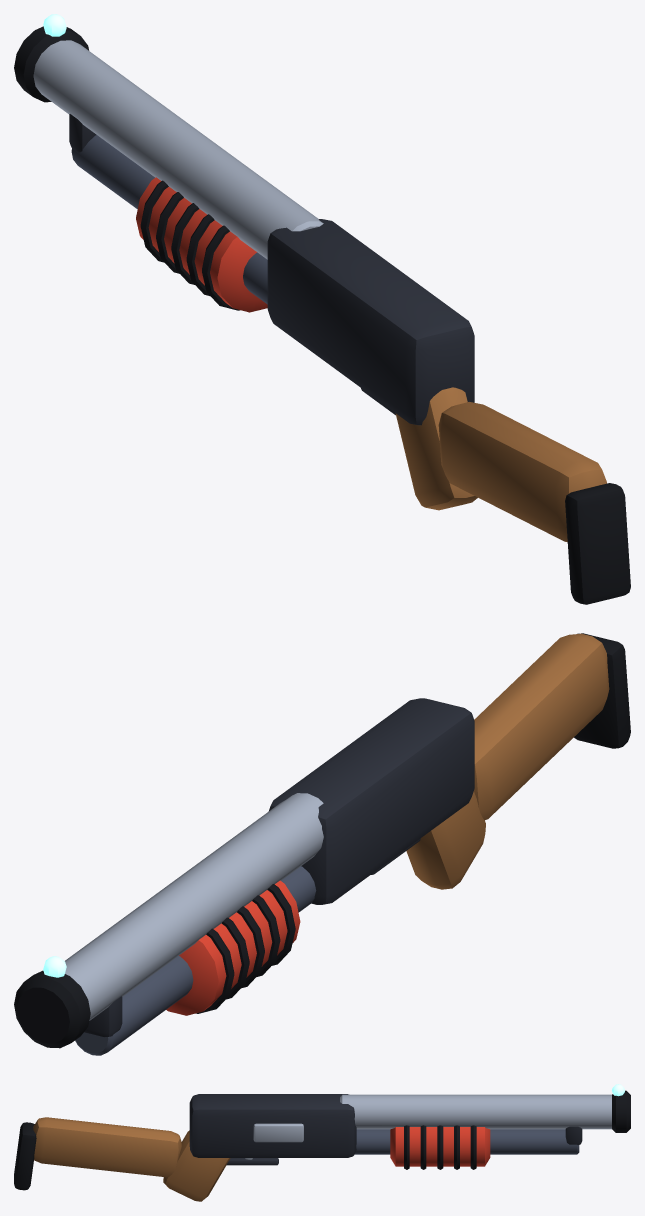
The model's file is scatter.glb.
The picture shows the model from 3 angles, top to bottom: view 1: azimuth 30°, elevation 25°; view 2: azimuth 150°, elevation 25°; view 3: azimuth 270°, elevation 25°; orthographic projection. The views are drawn at different scales.
Visible parts, largest first — view 1: scatter; view 2: scatter; view 3: scatter.
Part boxes in pixels (left/top/right/bottom): scatter: left=14, top=14, right=630, bottom=604; scatter: left=14, top=633, right=630, bottom=1055; scatter: left=14, top=1084, right=630, bottom=1201.
Bounding box in the file's own units: 0.106 × 0.2276 × 1.11.
